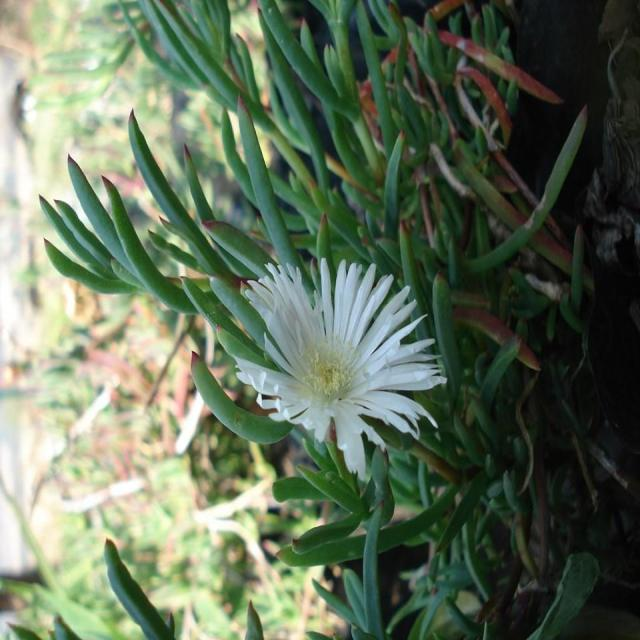organic waste: (235, 250, 460, 476)
